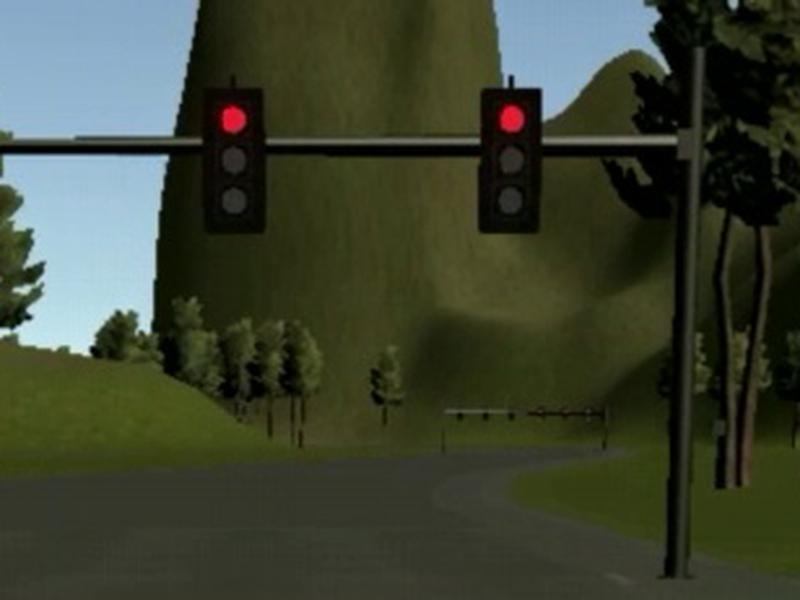Red: (477, 87, 542, 233), (205, 87, 266, 234)
